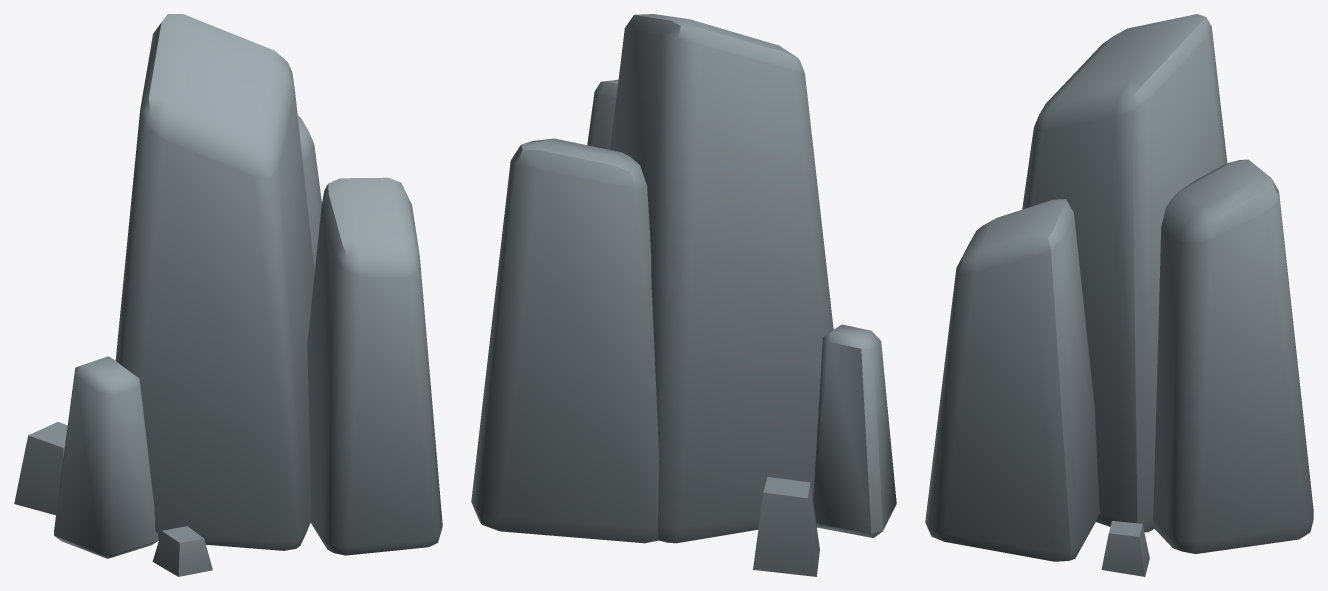
Rendered from Rock_4_F_Color1.gltf.
3 views of the same model, side by side, from view 1: azimuth 30°, elevation 25°; view 2: azimuth 150°, elevation 25°; view 3: azimuth 270°, elevation 25° (orthographic). The views are drawn at different scales.
Parts seen in each view (by area): view 1: Rock_4_F_Color1; view 2: Rock_4_F_Color1; view 3: Rock_4_F_Color1.
Boxes of the visible parts, x1,y1,x2,y2 form: Rock_4_F_Color1: (14, 14, 442, 576); Rock_4_F_Color1: (471, 14, 896, 576); Rock_4_F_Color1: (925, 14, 1313, 576).
Size of the model in its own units: 1.98 by 2.5 by 1.91.
1 material, 1 textured.
